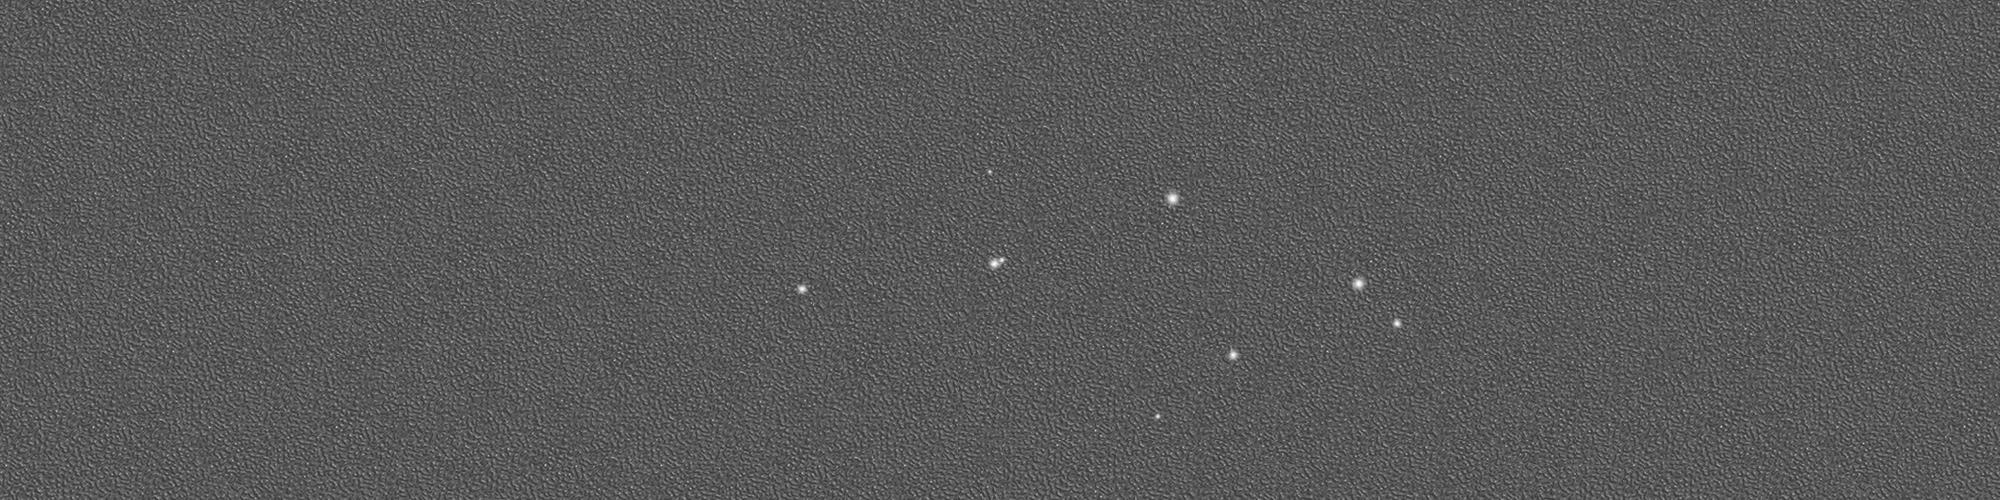Particles: (1159, 191, 1182, 210), (989, 254, 1010, 273), (1221, 348, 1244, 364), (1349, 274, 1369, 292), (793, 282, 812, 298), (1388, 318, 1406, 332), (1151, 408, 1165, 422), (983, 167, 997, 177)
